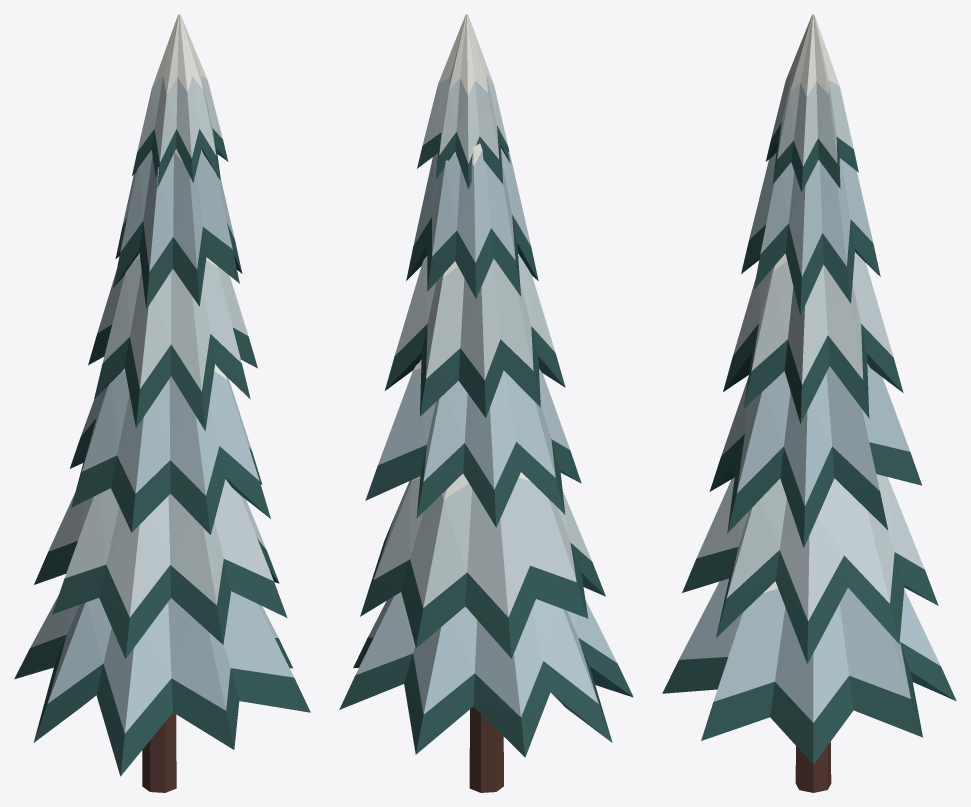
File: SpruceSpire.fbx
3 views of the same model, side by side, from view 1: azimuth 30°, elevation 25°; view 2: azimuth 150°, elevation 25°; view 3: azimuth 270°, elevation 25° (orthographic).
Visible parts, largest first — view 1: SpruceSpire; view 2: SpruceSpire; view 3: SpruceSpire.
Part boxes in pixels (<box>): SpruceSpire: <box>14,14,310,792</box>; SpruceSpire: <box>339,14,633,792</box>; SpruceSpire: <box>662,14,956,792</box>.
Size of the model in its own units: 2.69 by 7.6 by 2.6.
Materials: 1 (1 with a texture image).
